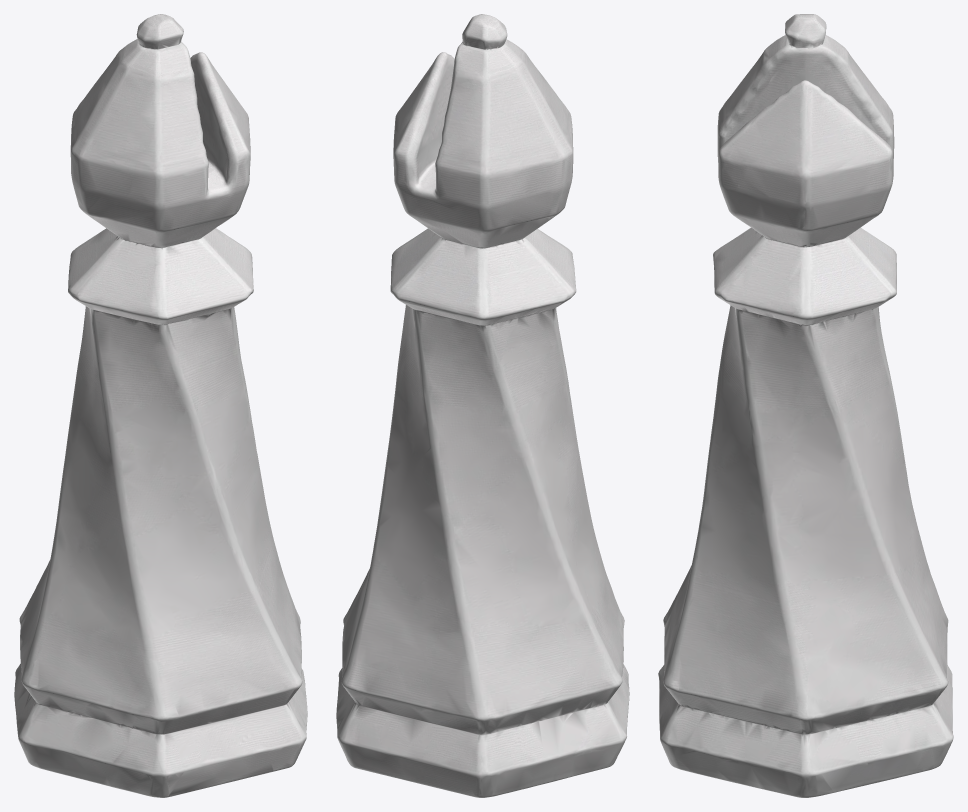
The model's file is bishop-white-hd.glb.
The picture shows the model from 3 angles, left to right: view 1: azimuth 30°, elevation 25°; view 2: azimuth 150°, elevation 25°; view 3: azimuth 270°, elevation 25°; orthographic projection.
Size of the model in its own units: 0.5355 by 1.3 by 0.4839.
1 material, 1 textured.
